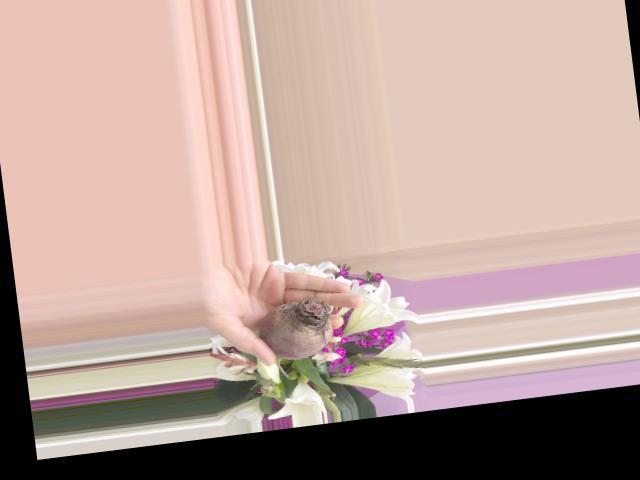beet: (255, 296, 338, 381)
